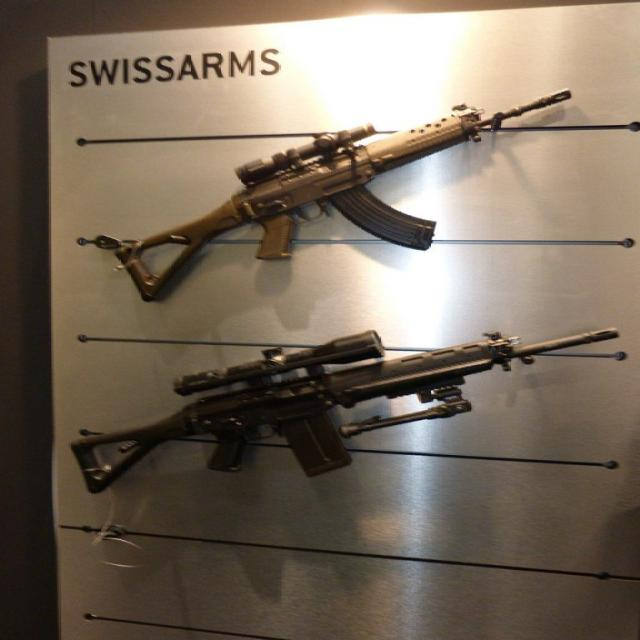firearm: (112, 87, 576, 303), (67, 326, 622, 495)
